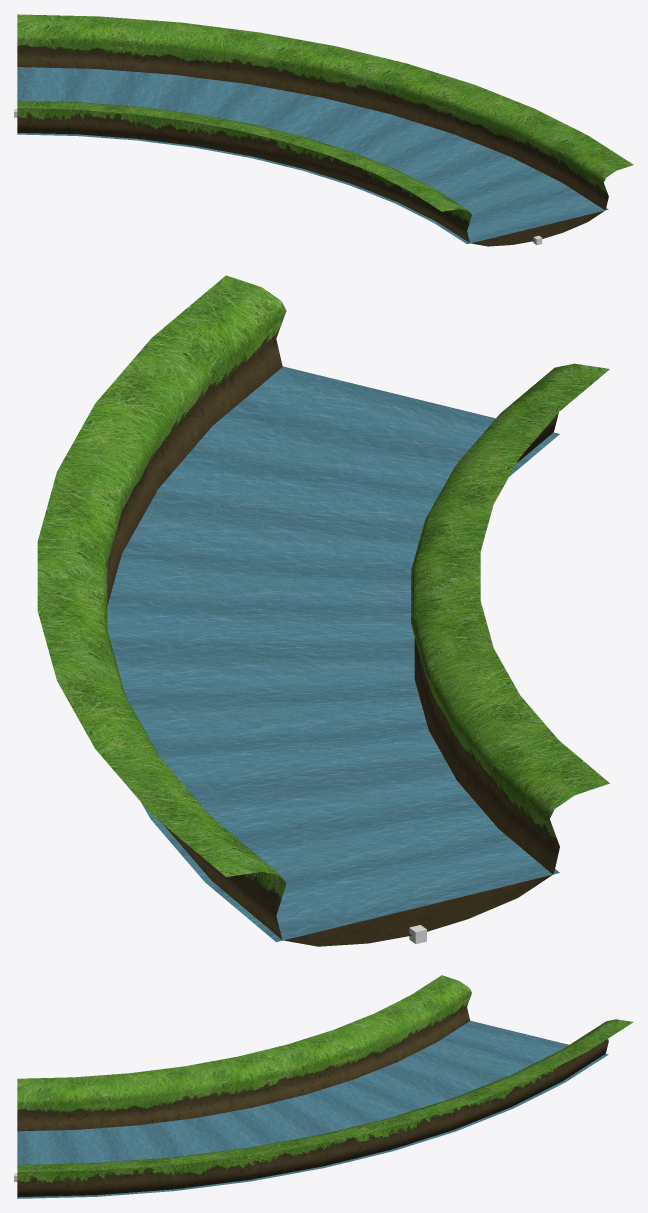
Rendered from roadBend60.L.fbx.
3 renders of one model, top to bottom at view 1: azimuth 30°, elevation 25°; view 2: azimuth 150°, elevation 25°; view 3: azimuth 270°, elevation 25°, orthographic. The views are drawn at different scales.
Parts seen in each view (by area): view 1: MESH roadBend60.L; view 2: MESH roadBend60.L; view 3: MESH roadBend60.L.
Boxes of the visible parts, x1,y1,x2,y2 form: MESH roadBend60.L: (17,14,633,246); MESH roadBend60.L: (37,275,609,946); MESH roadBend60.L: (17,975,633,1198).
Size of what is drawn, in the model's own units: 3560 by 463 by 4727.
